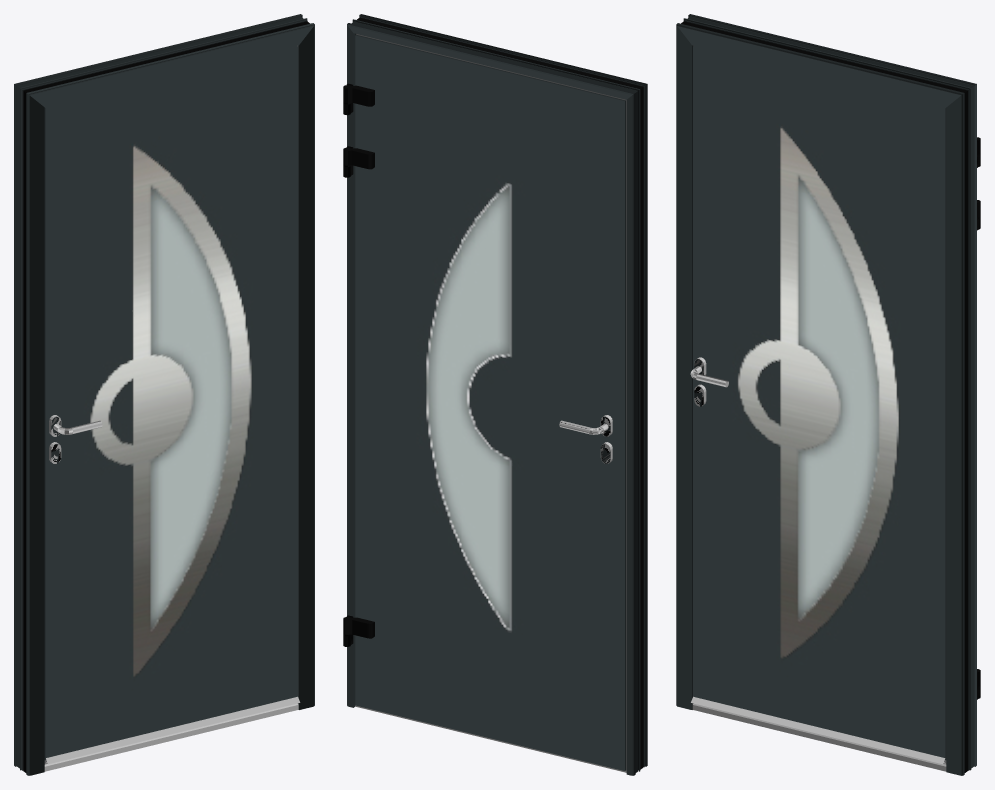
3 renders of one model, left to right at view 1: azimuth 30°, elevation 25°; view 2: azimuth 150°, elevation 25°; view 3: azimuth 330°, elevation 25°, orthographic.
Visible parts, largest first — view 1: ouvrant, 85; view 2: ouvrant, 85; view 3: ouvrant, 85.
Boxes of the visible parts, <box> form: ouvrant: <box>44,46,300,764</box>; 85: <box>14,14,314,775</box>; ouvrant: <box>343,34,626,770</box>; 85: <box>343,14,647,775</box>; ouvrant: <box>691,46,980,764</box>; 85: <box>676,14,980,775</box>.
Bounding box in the file's own units: 96 × 218 × 22.64.
1 material, 1 textured.
